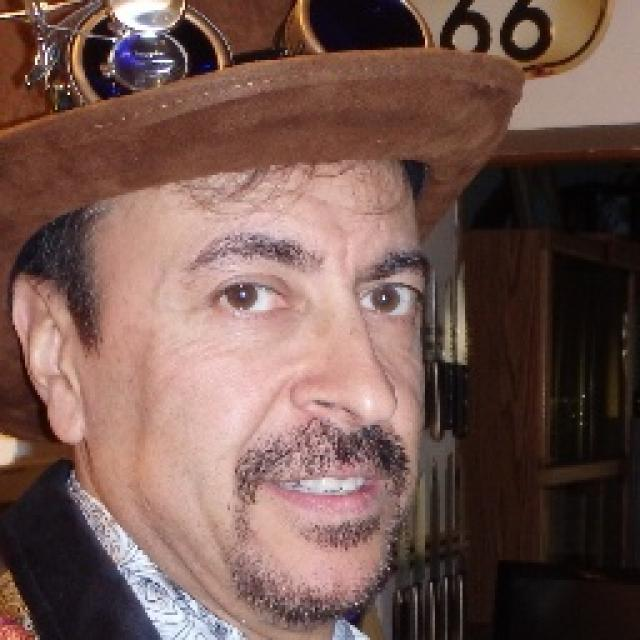earlobe: (294, 395, 413, 467), (46, 396, 89, 446)
eye: (209, 281, 293, 317), (356, 279, 422, 317)
wholeear: (10, 272, 90, 445)
